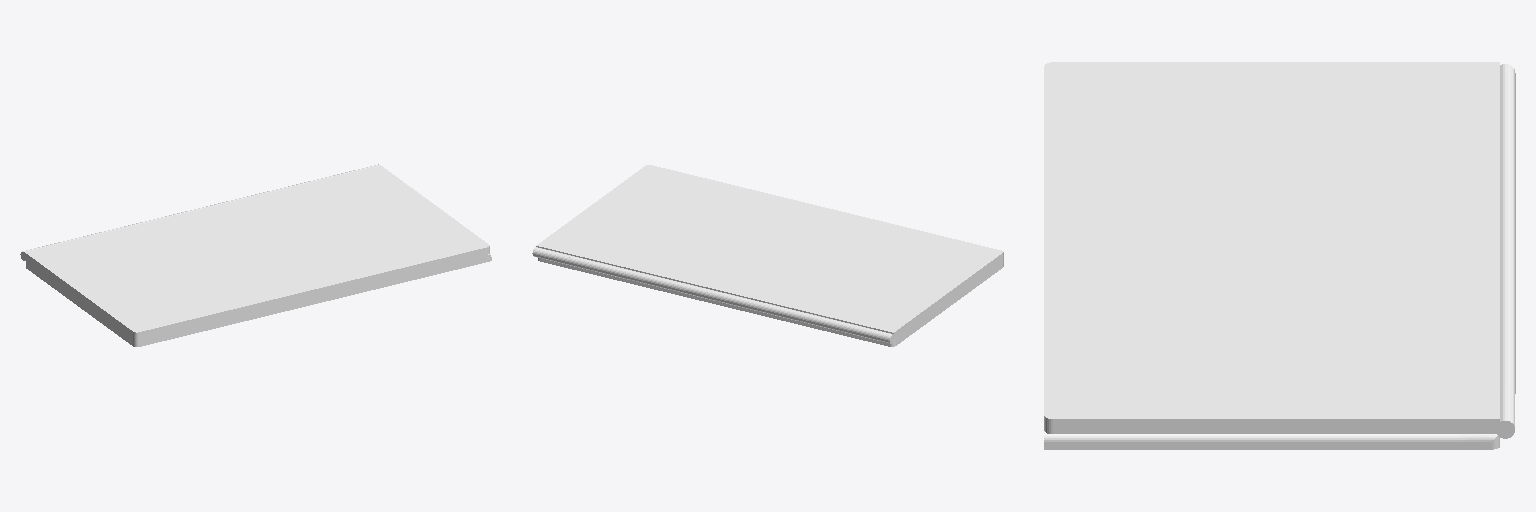
The robot description file, URDF, robot "laptop":
<?xml version="1.0"?>

<robot name="laptop">
  <link name="lap_down">
    <contact>
      <restitution value="1.0e-8" />
      <!-- <lateral_friction value="1.0e+8"/>
      <rolling_friction value="1.0e+8"/> 
      <spinning_friction value="1.0e+8"/>  -->
      <contact_cfm value="0.00001"/>
      <contact_erp value="0.2"/>
    </contact>
    <inertial>
      <origin xyz="0 0 0" />
      <mass value="0.1" />
      <inertia  ixx="1.0" ixy="0.0"  ixz="0.0"  iyy="1.0"  iyz="0.0"  izz="1.0" />
    </inertial>

    <visual>
      <origin xyz="0 0 0"/>
      <geometry>
	      <mesh filename="mesh/lap_down_0.stl" />
      </geometry>
      <material name="white">
        <color rgba="1.0 1.0 1.0 1.0"/>
      </material>
    </visual>

    <collision>
      <origin xyz="0 0 0"/>
      <geometry>
        <mesh filename="mesh/lap_down_0.stl" />
      </geometry>
    </collision>

  </link>



  <joint name="lap_joint" type="revolute">
    <parent link="lap_down"/>
    <child link="lap_up"/>
    <origin rpy="0 0 0" xyz="0 0 0" />
    <axis xyz="1 0 0"/>
    <limit lower="-2.2" upper="0.1" effort="1000" velocity="10" />
    <dynamics damping="100" friction="0.0" />

  </joint>

  <link name="lap_up">
    <contact>
      <restitution value="1.0e-8" />
      <!-- <lateral_friction value="1.0e+8"/>
      <rolling_friction value="1.0e+8"/> 
      <spinning_friction value="1.0e+8"/>  -->
      <contact_cfm value="0.00001"/>
      <contact_erp value="0.2"/>
    </contact>
    <inertial>
      <origin xyz="0 0 0" />
      <mass value="0.1" />
      <inertia  ixx="1.0" ixy="0.0"  ixz="0.0"  iyy="1.0"  iyz="0.0"  izz="1.0" />
    </inertial>
    <visual>
      <origin xyz="0 0 0"/>
      <geometry>
	      <mesh filename="mesh/lap_up_0.stl" />
      </geometry>
      <material name="white">
	<color rgba="1.0 1.0 1.0 1.0"/>
      </material>
    </visual>
    <collision>
      <origin xyz="0 0 0"/>
      <geometry>
	      <mesh filename="mesh/lap_up_0.stl" />
      </geometry>
    </collision>
  </link>

</robot>

--- What the picture shows (computed from the rendered views, not written in the file) ---
The picture shows the robot from 3 angles, left to right: view 1: azimuth 30°, elevation 25°; view 2: azimuth 150°, elevation 25°; view 3: azimuth 270°, elevation 25°; orthographic projection.
Robot: laptop — 2 links, 1 joints (1 revolute); root link lap_down; default pose: all joints at 0.
Visible links, largest first — view 1: lap_up, lap_down; view 2: lap_up, lap_down; view 3: lap_up, lap_down.
Boxes of the visible links, x1,y1,x2,y2 form: lap_up: (20, 164, 489, 339); lap_down: (26, 173, 491, 346); lap_up: (532, 165, 1003, 343); lap_down: (538, 256, 1003, 346); lap_up: (1044, 62, 1515, 438); lap_down: (1044, 100, 1515, 449).
Size in the robot's own frame: 0.525 by 0.293 by 0.021 metres.
Meshes: 2 distinct files referenced, 2 mesh visuals loaded (2 binary STL).